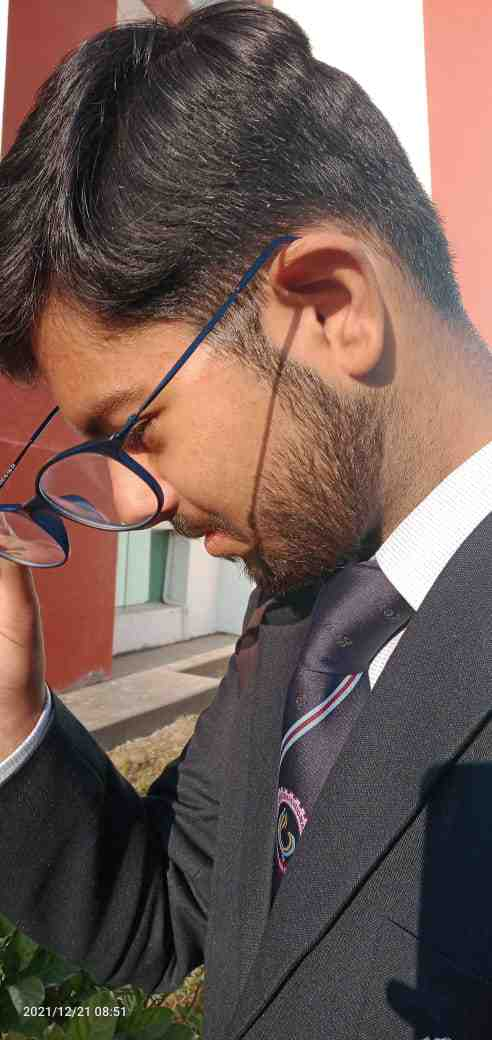blazer: (13, 514, 490, 1040)
tie: (253, 579, 396, 896)
